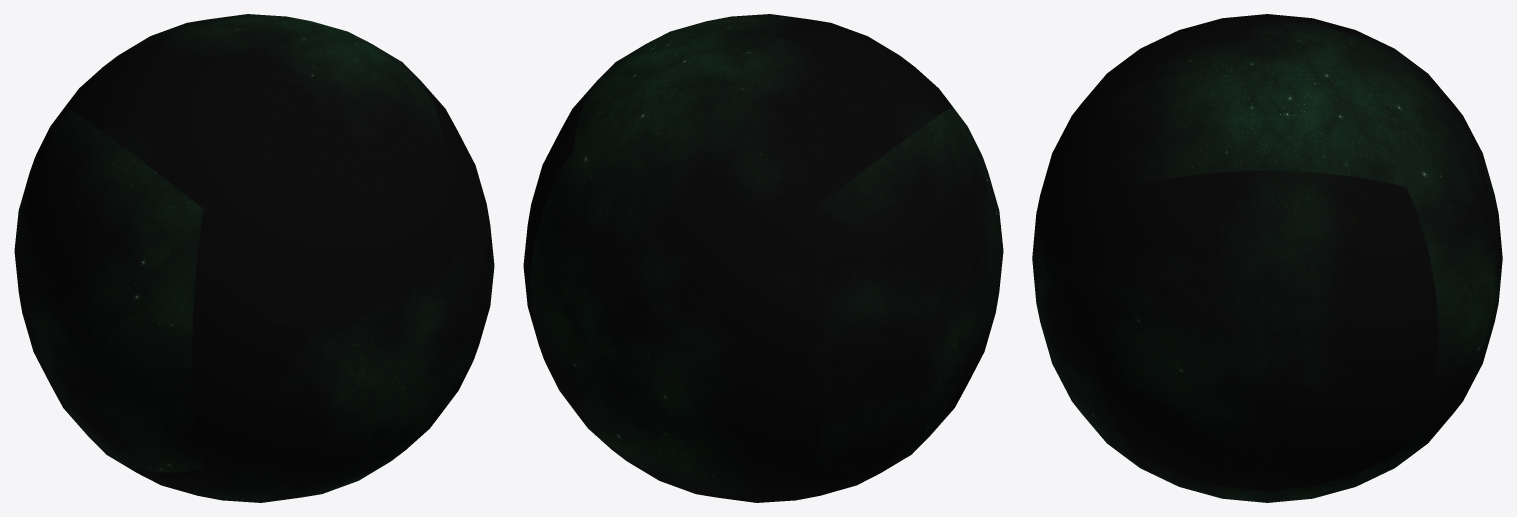
The model's file is GreenNebulaExport.FBX.
The picture shows the model from 3 angles, left to right: view 1: azimuth 30°, elevation 25°; view 2: azimuth 150°, elevation 25°; view 3: azimuth 270°, elevation 25°; orthographic projection.
Visible parts, largest first — view 1: GreenNebula; view 2: GreenNebula; view 3: GreenNebula.
Part boxes in pixels (left/top/right/bottom): GreenNebula: left=14, top=14, right=494, bottom=502; GreenNebula: left=523, top=14, right=1003, bottom=502; GreenNebula: left=1032, top=14, right=1502, bottom=502.
Size of the model in its own units: 216 by 223 by 216.
Materials: 6 (6 with a texture image).
